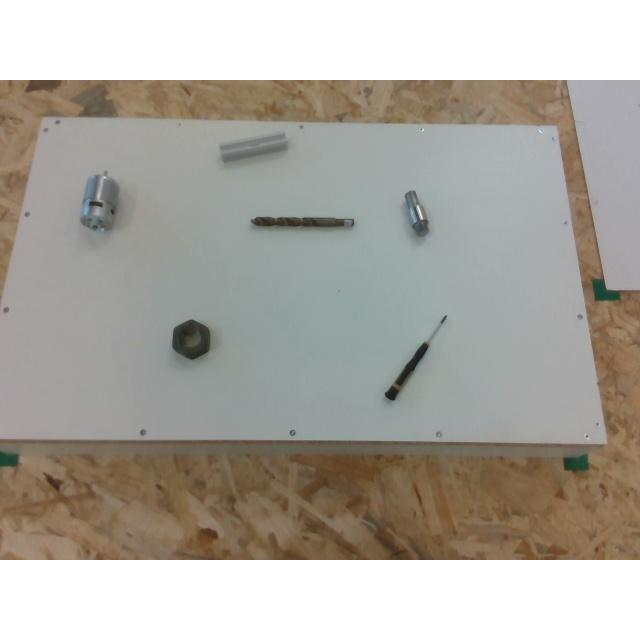Axis2: (404, 190, 428, 234)
Drill: (251, 214, 353, 226)
F20_20_G: (219, 132, 289, 164)
M30: (172, 318, 210, 358)
Motor2: (80, 170, 116, 230)
